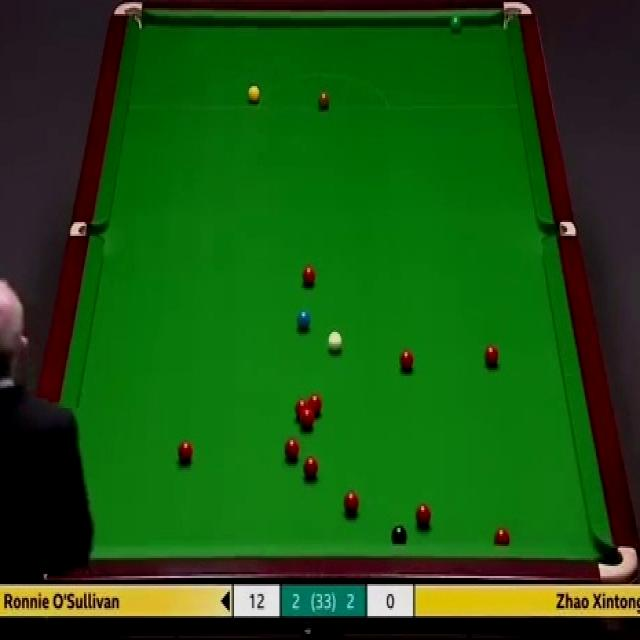black-ball: (389, 524, 407, 546)
blue-ball: (295, 308, 311, 333)
brown-ball: (316, 88, 330, 111)
green-ball: (449, 13, 464, 32)
red-ball: (398, 347, 416, 375), (341, 490, 359, 517), (302, 455, 319, 483), (177, 437, 193, 465), (414, 503, 431, 529), (284, 436, 300, 461), (302, 266, 318, 290), (484, 343, 499, 368), (308, 394, 322, 418), (494, 526, 510, 546), (301, 410, 314, 430), (295, 398, 308, 418)
white-ball: (327, 328, 345, 356)
yellow-ball: (246, 83, 260, 103)
